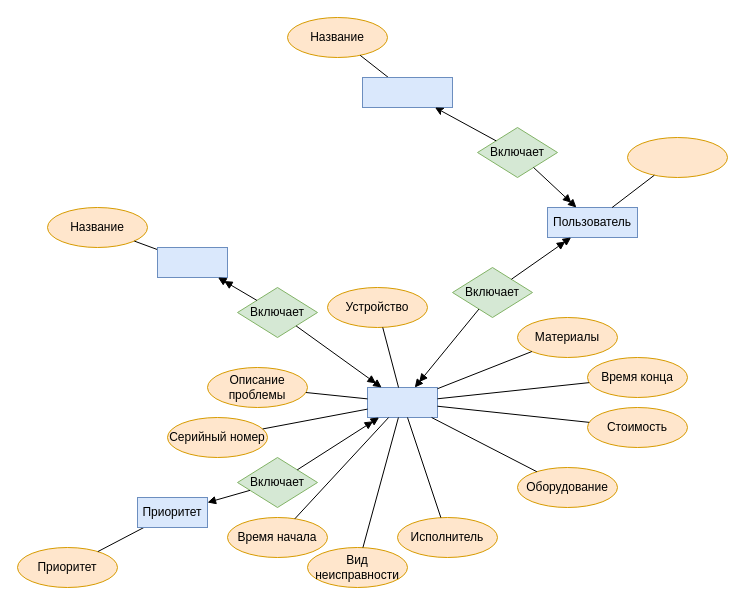
The diagram is 745 pixels wide and 605 high, and some of its shapes have lost their labels. The shapes that lost their labels are listed below. From the top down, each one's centre as x and y in pixels, then its label:
pixel 407 92: Роль
pixel 677 157: ФИО
pixel 192 262: Статус
pixel 402 402: Заявка
